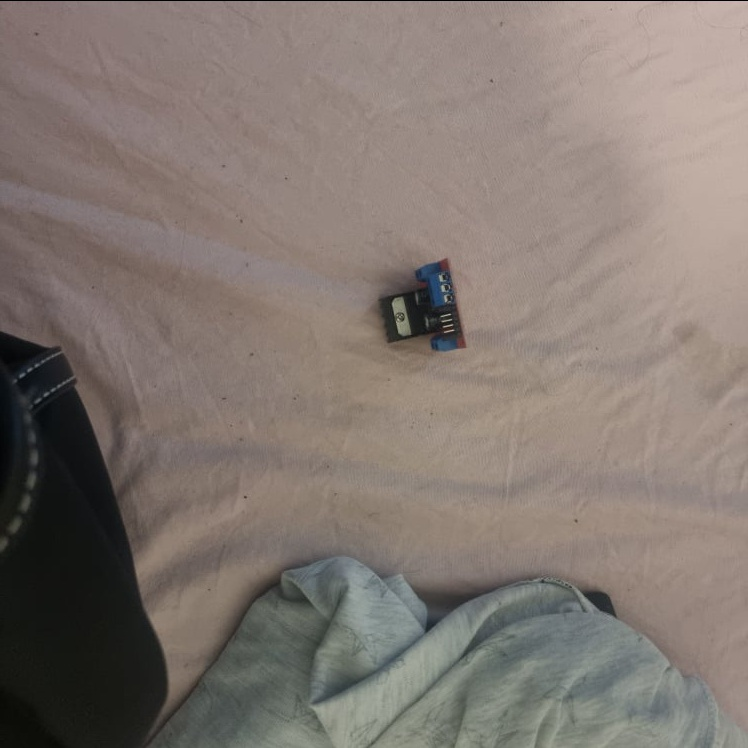MOTOR: (378, 256, 471, 358)
